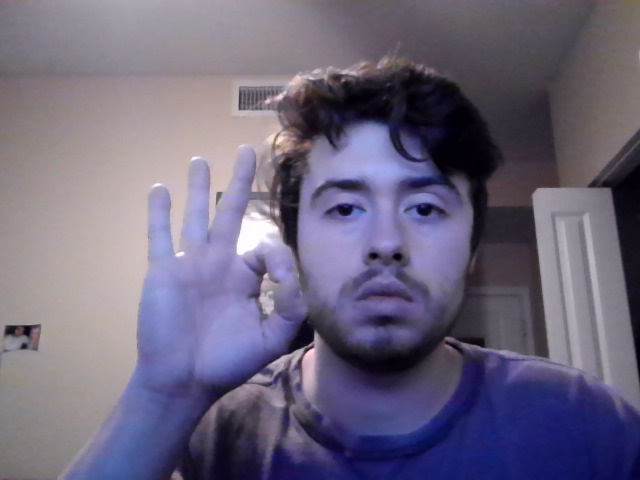f: (134, 143, 307, 407)
